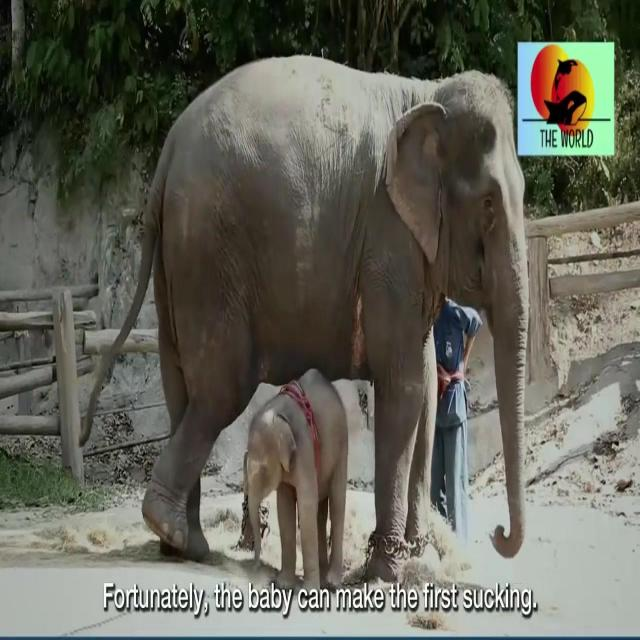Elephant: (378, 87, 516, 303), (250, 386, 348, 564)
